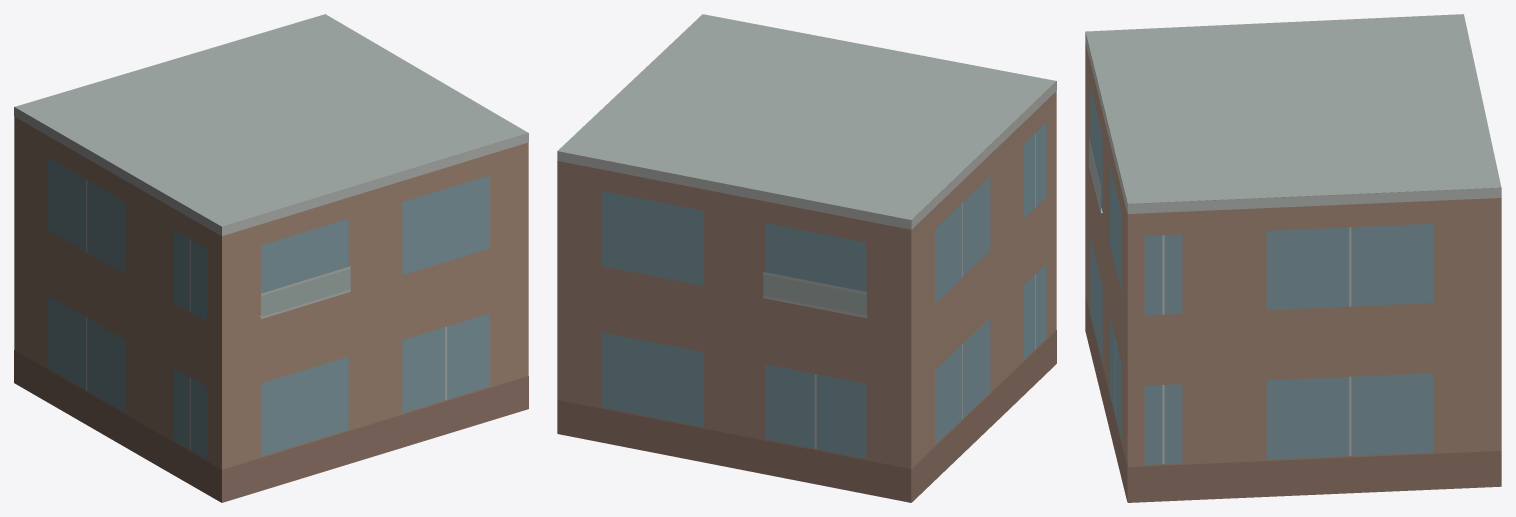
The model's file is survey-upis-32642121.glb.
3 views of the same model, side by side, from view 1: azimuth 30°, elevation 25°; view 2: azimuth 150°, elevation 25°; view 3: azimuth 270°, elevation 25° (orthographic). The views are drawn at different scales.
Parts seen in each view (by area): view 1: survey-upis-32642121.tmp; view 2: survey-upis-32642121.tmp; view 3: survey-upis-32642121.tmp.
Part boxes in pixels (left/top/right/bottom): survey-upis-32642121.tmp: left=14, top=14, right=528, bottom=502; survey-upis-32642121.tmp: left=557, top=14, right=1056, bottom=502; survey-upis-32642121.tmp: left=1085, top=14, right=1501, bottom=502.
Bounding box in the file's own units: 9.68 × 7.1 × 8.97.
